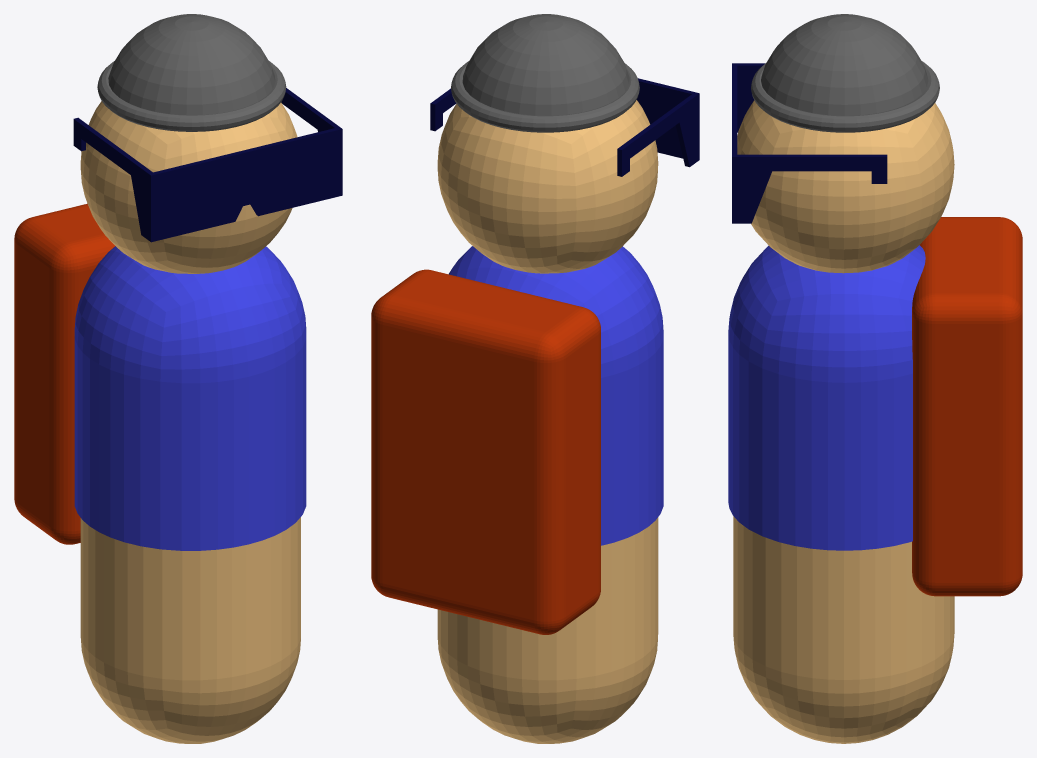
Rendered from playerModel2.fbx.
3 renders of one model, left to right at view 1: azimuth 30°, elevation 25°; view 2: azimuth 150°, elevation 25°; view 3: azimuth 270°, elevation 25°, orthographic.
Parts seen in each view (by area): view 1: Roundcube.004, Roundcube.001, Roundcube.003, Plane, Roundcube.002, Sphere, Torus; view 2: Roundcube.003, Roundcube.002, Roundcube.001, Roundcube.004, Sphere, Plane, Torus; view 3: Roundcube.004, Roundcube.003, Roundcube.001, Roundcube.002, Sphere, Plane, Torus.
Boxes of the visible parts, bbox=[...] form: Roundcube.004: bbox=[74, 246, 306, 550]; Roundcube.001: bbox=[80, 517, 300, 743]; Roundcube.003: bbox=[14, 203, 114, 544]; Plane: bbox=[73, 88, 342, 242]; Roundcube.002: bbox=[80, 101, 297, 273]; Sphere: bbox=[108, 14, 275, 115]; Torus: bbox=[97, 61, 286, 131]; Roundcube.003: bbox=[371, 269, 600, 634]; Roundcube.002: bbox=[437, 100, 658, 273]; Roundcube.001: bbox=[437, 517, 658, 743]; Roundcube.004: bbox=[449, 246, 663, 545]; Sphere: bbox=[462, 14, 629, 115]; Plane: bbox=[430, 78, 699, 176]; Torus: bbox=[451, 61, 639, 132]; Roundcube.004: bbox=[728, 245, 925, 550]; Roundcube.003: bbox=[912, 217, 1022, 596]; Roundcube.001: bbox=[733, 516, 954, 743]; Roundcube.002: bbox=[737, 100, 954, 273]; Sphere: bbox=[761, 14, 928, 115]; Plane: bbox=[732, 63, 887, 223]; Torus: bbox=[751, 61, 939, 132].
Bounding box in the file's own units: 210 × 710 × 266.
